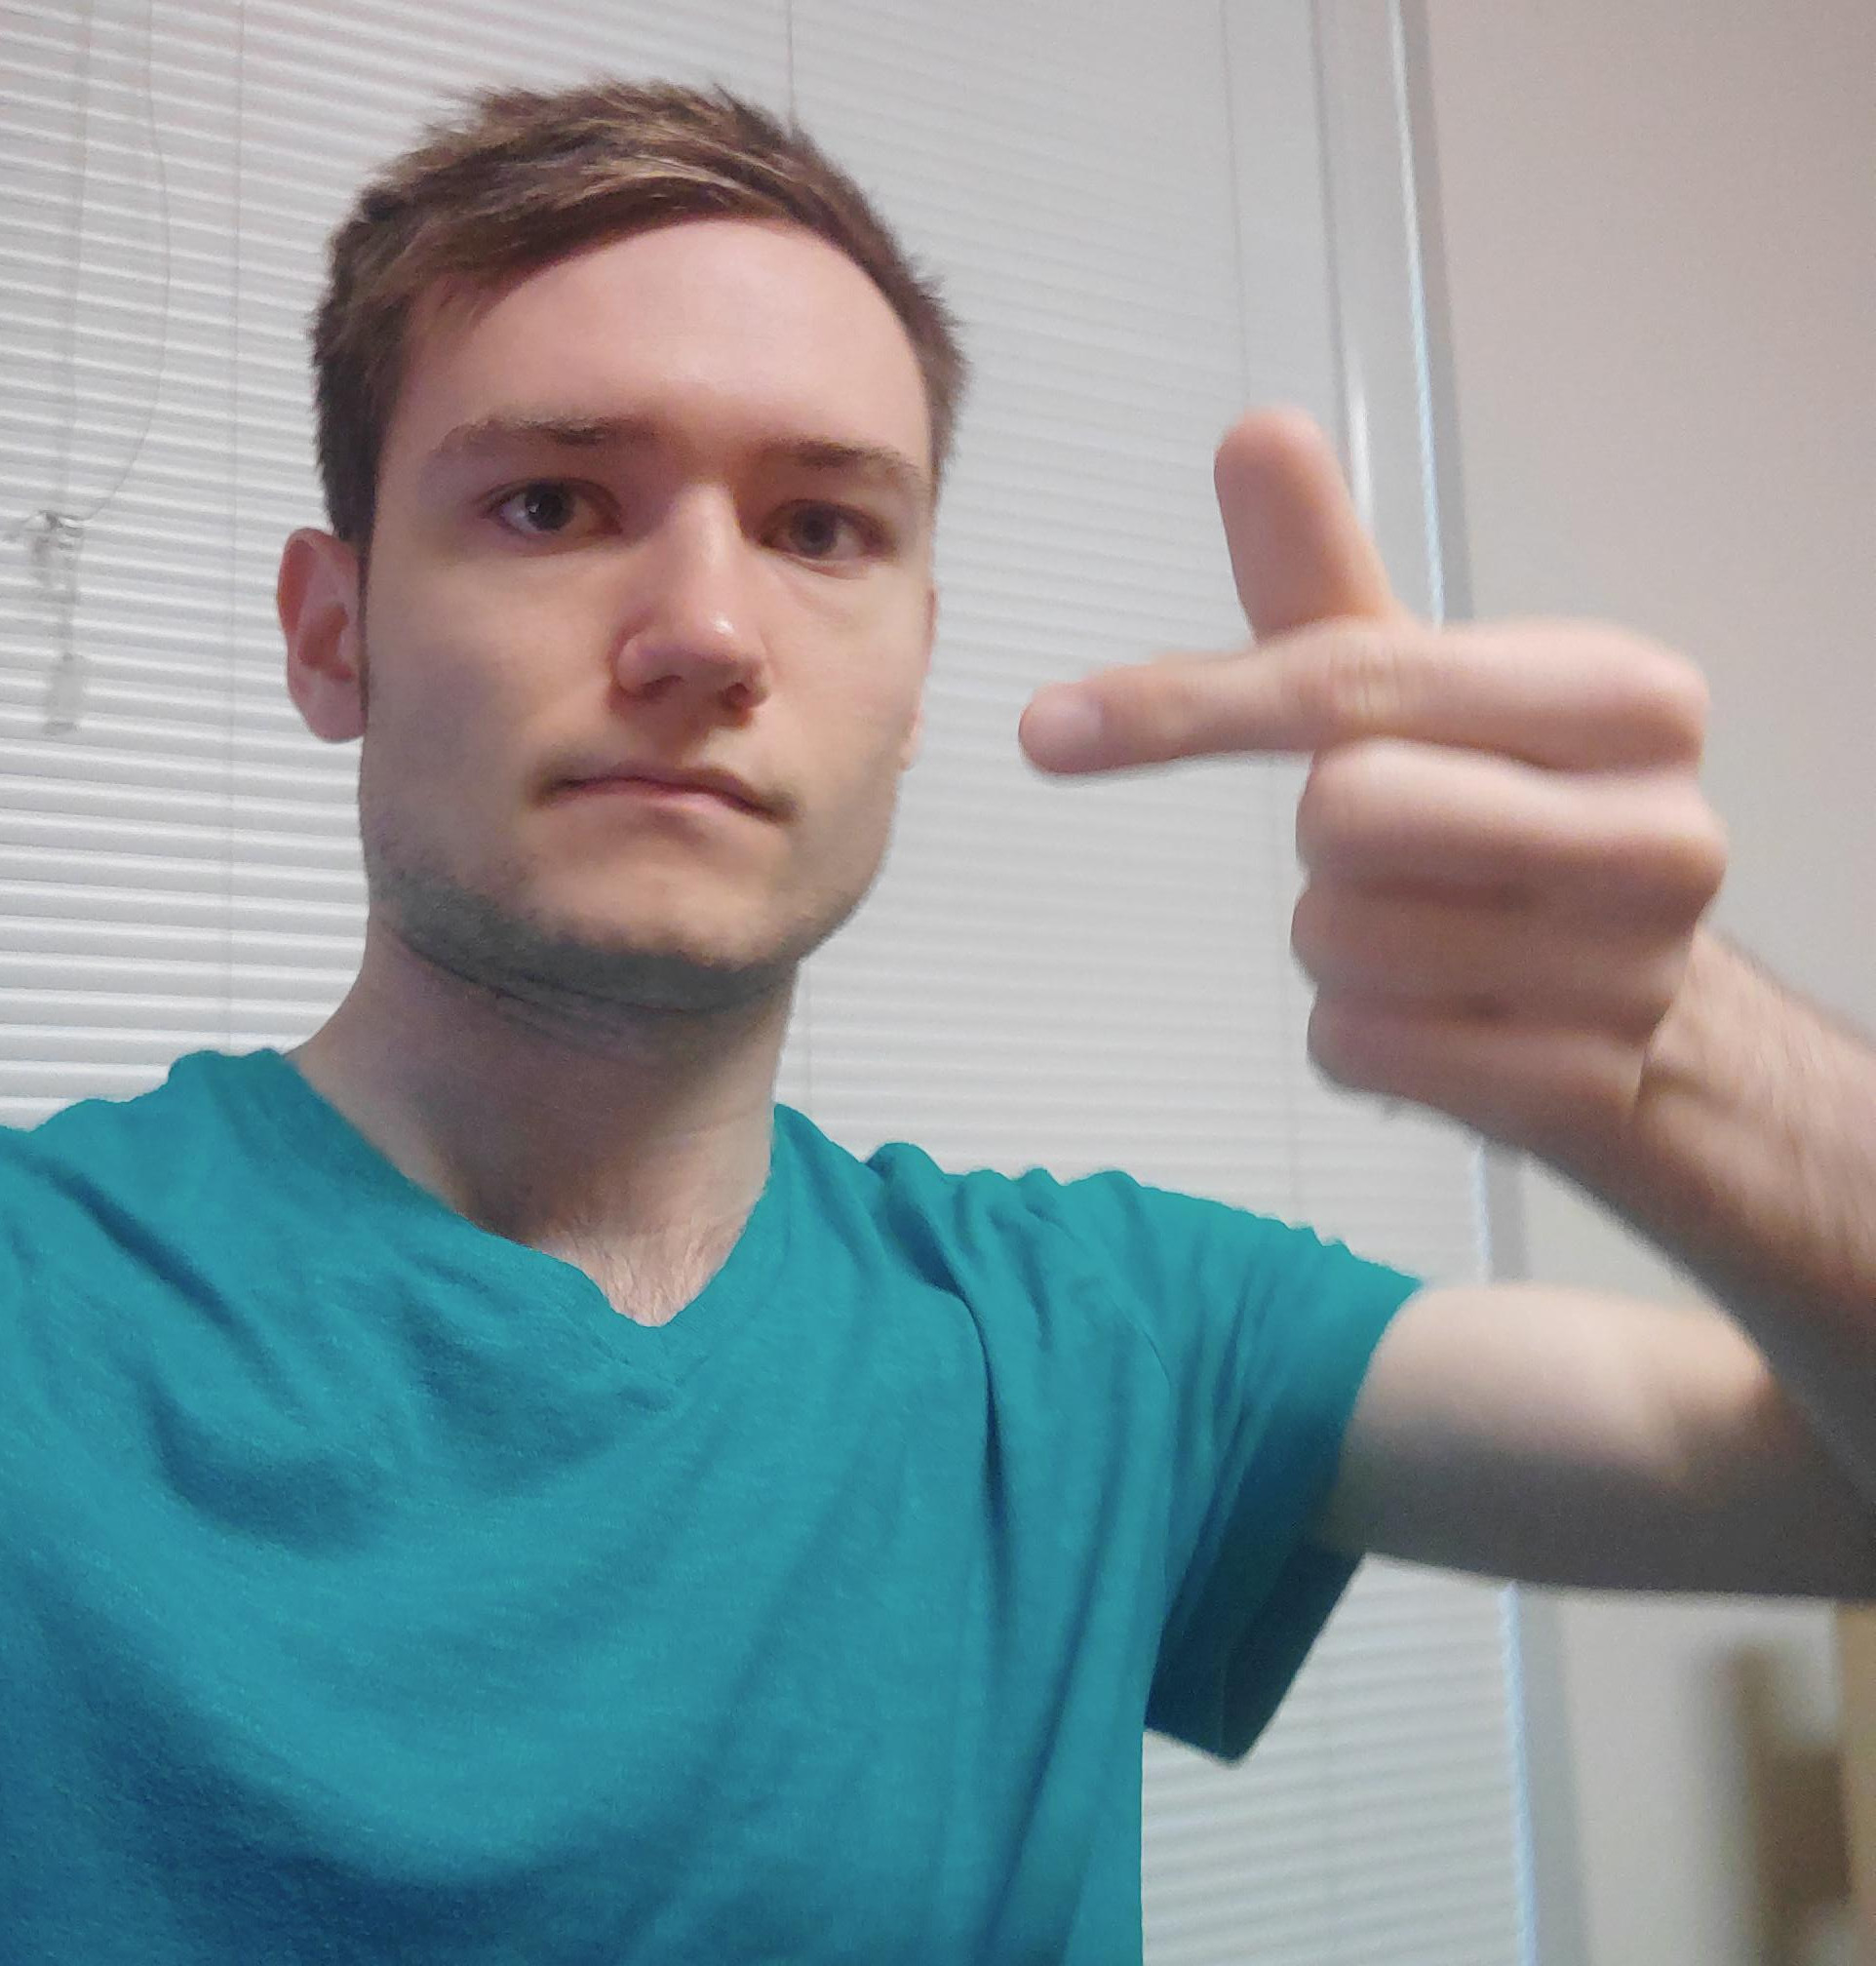heart gesture: (1009, 390, 1413, 783)
